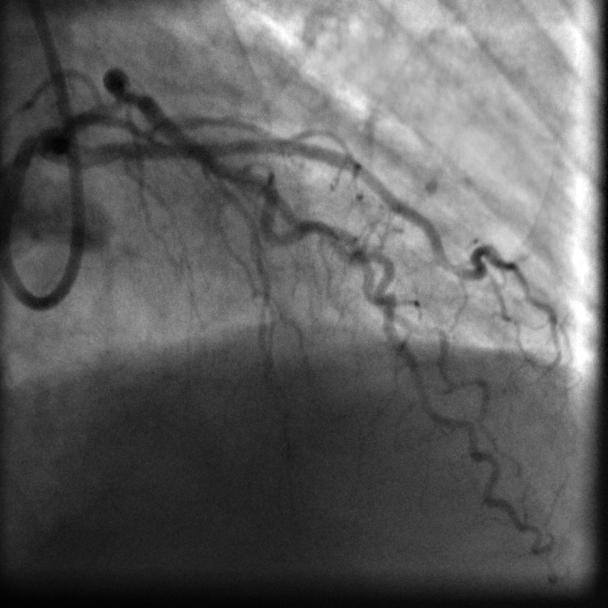Stenosis: (109, 69, 148, 115)
